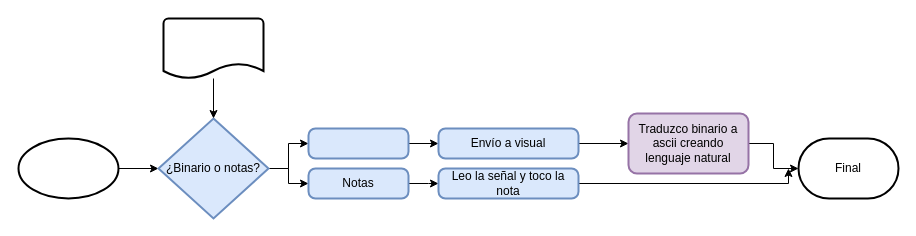
Image size: 916x236. Some labels were removed from this diagram. Here are the shapes that lost their labels. From the top down, the box of each, then its label:
(162, 17, 264, 79): Hoja de papel
(307, 127, 409, 159): Binario
(17, 137, 119, 199): Inicio Lector
